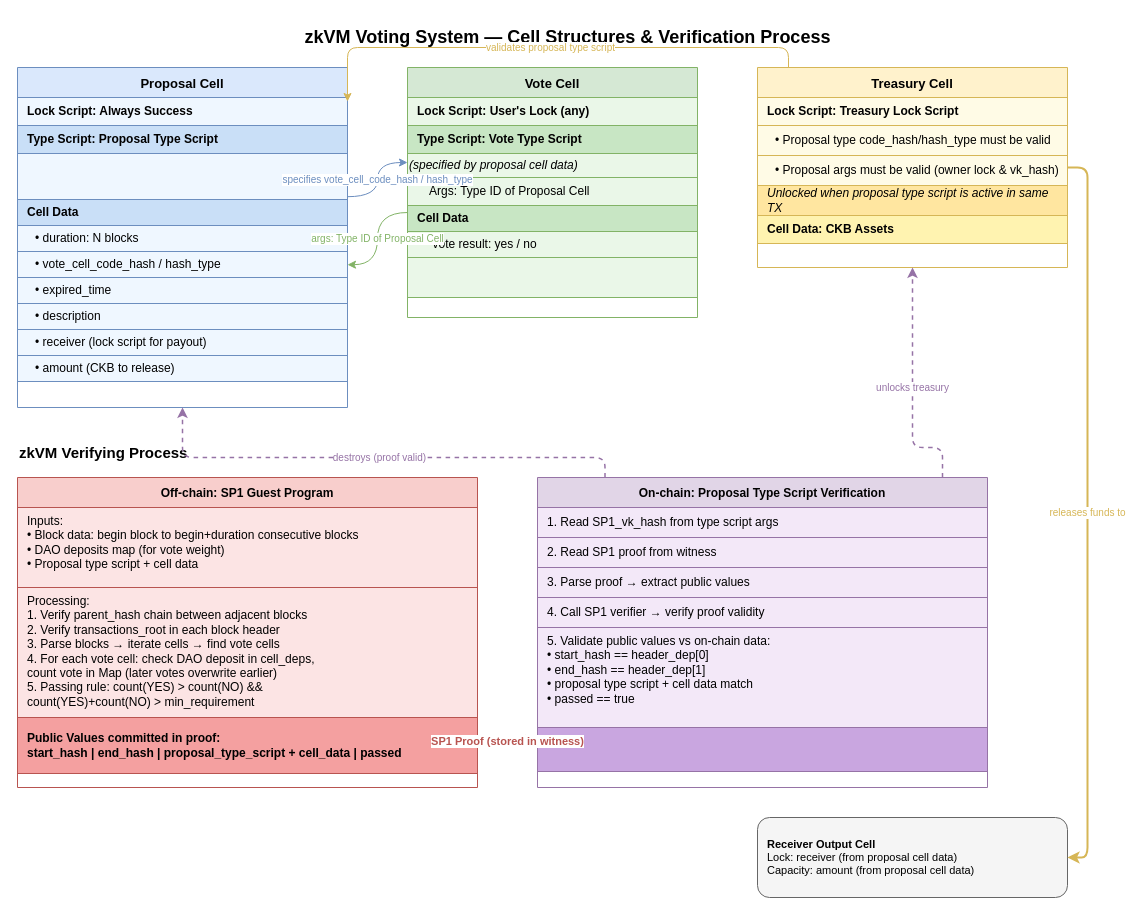
Image size: 1143x915. Some labels were removed from this diagram. The shapes that lost their labels are listed below. From the top down, each one's centre as x and y in pixels, then its label:
(x=182, y=176): Args: blake160(prev_tx) | blake160(owner_lock) | SP1_vk_hash[32B]
(x=552, y=277): cell_deps: DAO deposit cell (same lock, used as vote weight)
(x=762, y=749): ✓ Proof valid → Proposal Cell destroyed + Treasury unlocked
